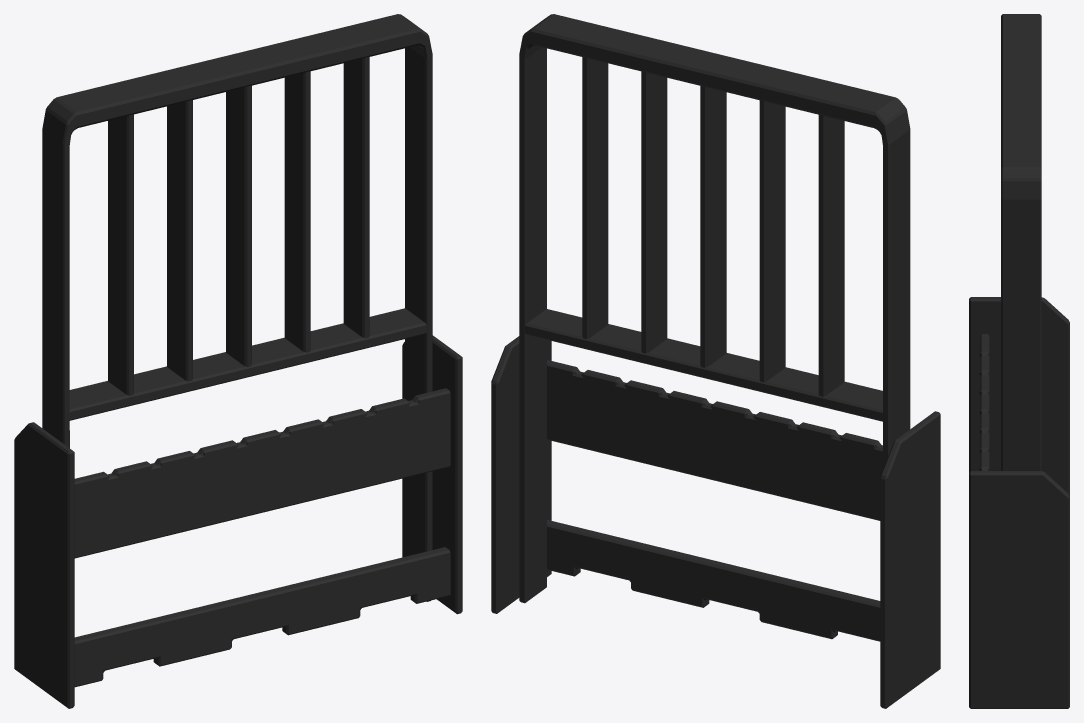
File: carriage.glb
3 renders of one model, left to right at view 1: azimuth 30°, elevation 25°; view 2: azimuth 150°, elevation 25°; view 3: azimuth 270°, elevation 25°, orthographic. The views are drawn at different scales.
Visible parts, largest first — view 1: CARRIAGE; view 2: CARRIAGE; view 3: CARRIAGE.
Part boxes in pixels (left/top/right/bottom): CARRIAGE: left=14, top=14, right=462, bottom=708; CARRIAGE: left=491, top=14, right=940, bottom=708; CARRIAGE: left=969, top=14, right=1069, bottom=708.
Size of the model in its own units: 0.8938 by 1.25 by 0.2151.
Materials: 1 (1 with a texture image).
